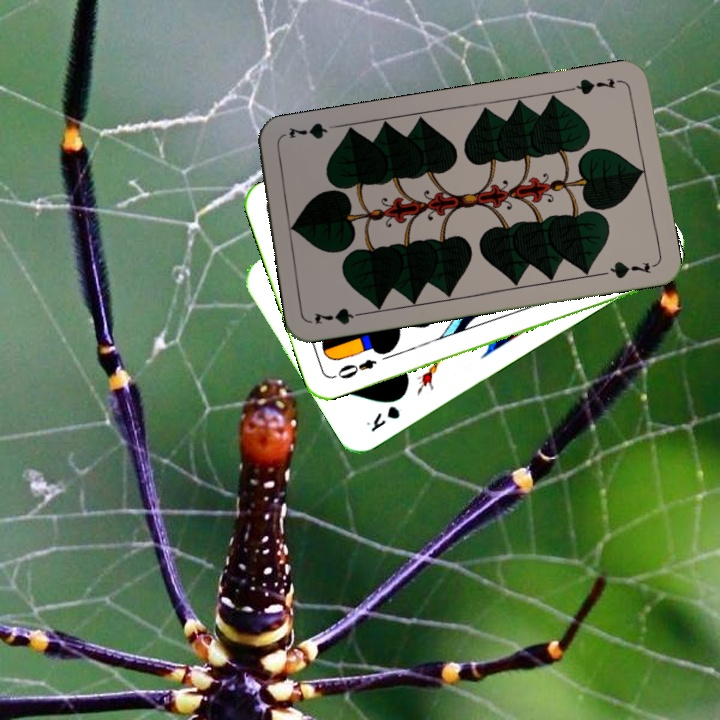EO: (329, 354, 379, 382)
G7: (566, 73, 625, 97), (310, 304, 369, 327)
GK: (362, 401, 403, 435)
